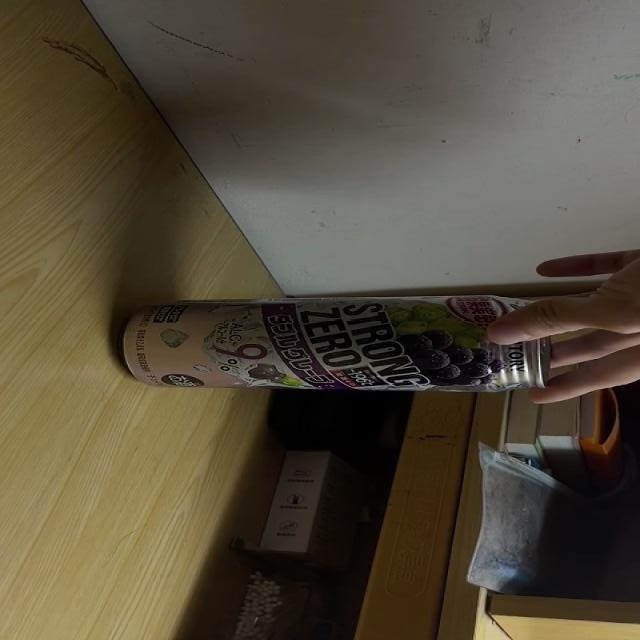Liquor: (120, 294, 554, 392)
